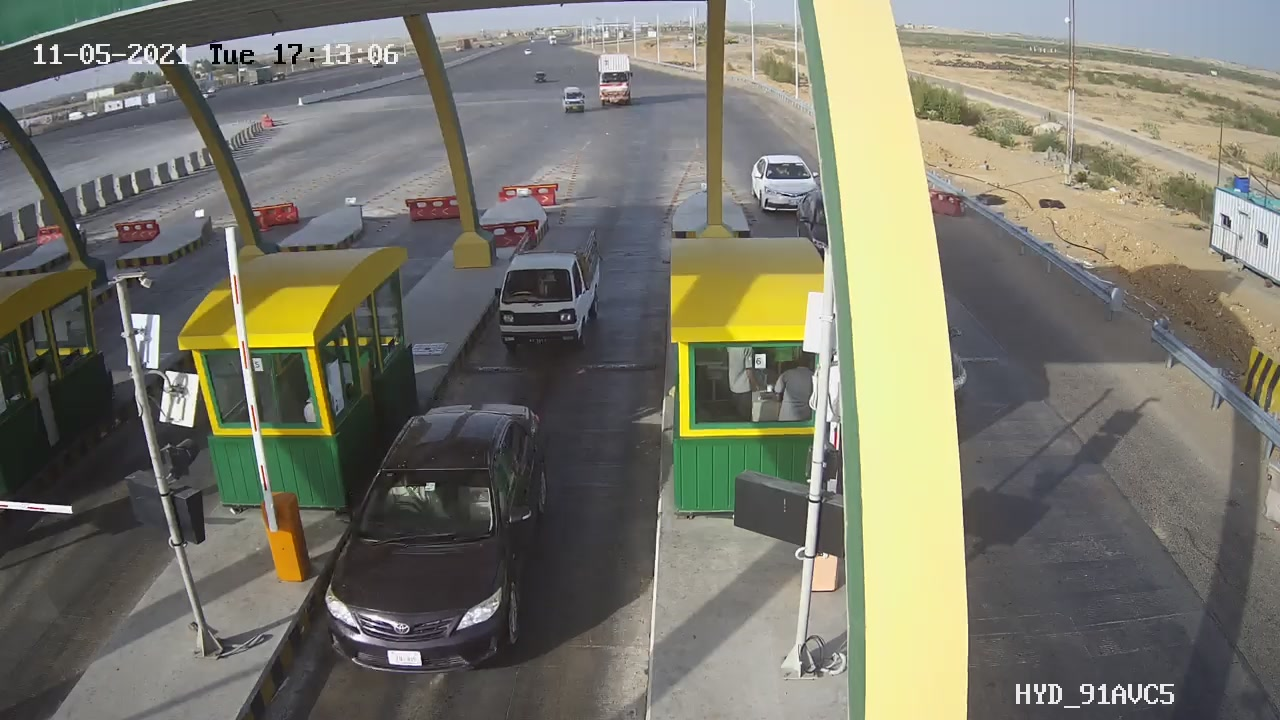F1: (304, 396, 559, 682), (485, 217, 616, 374)
